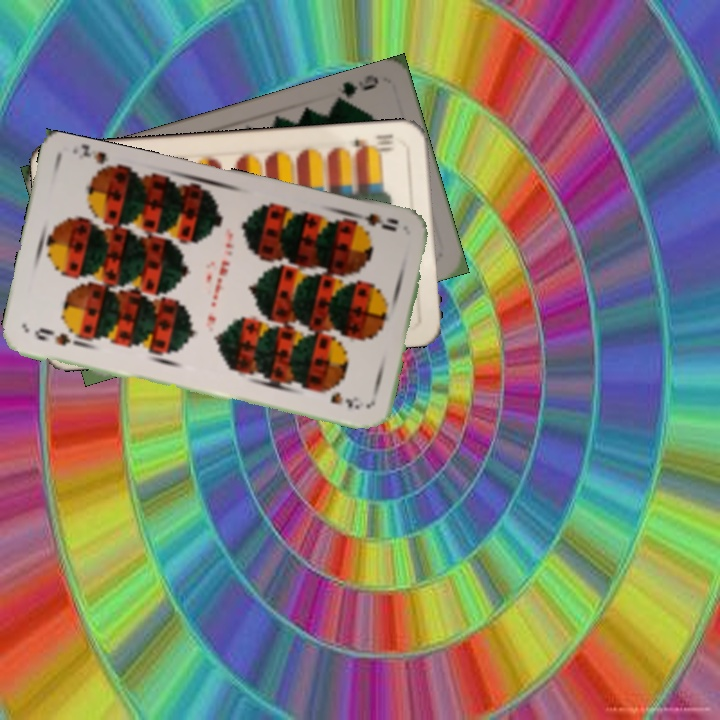E10: (350, 129, 397, 156)
G9: (330, 70, 382, 108)
S9: (347, 208, 401, 234), (30, 324, 85, 349)
